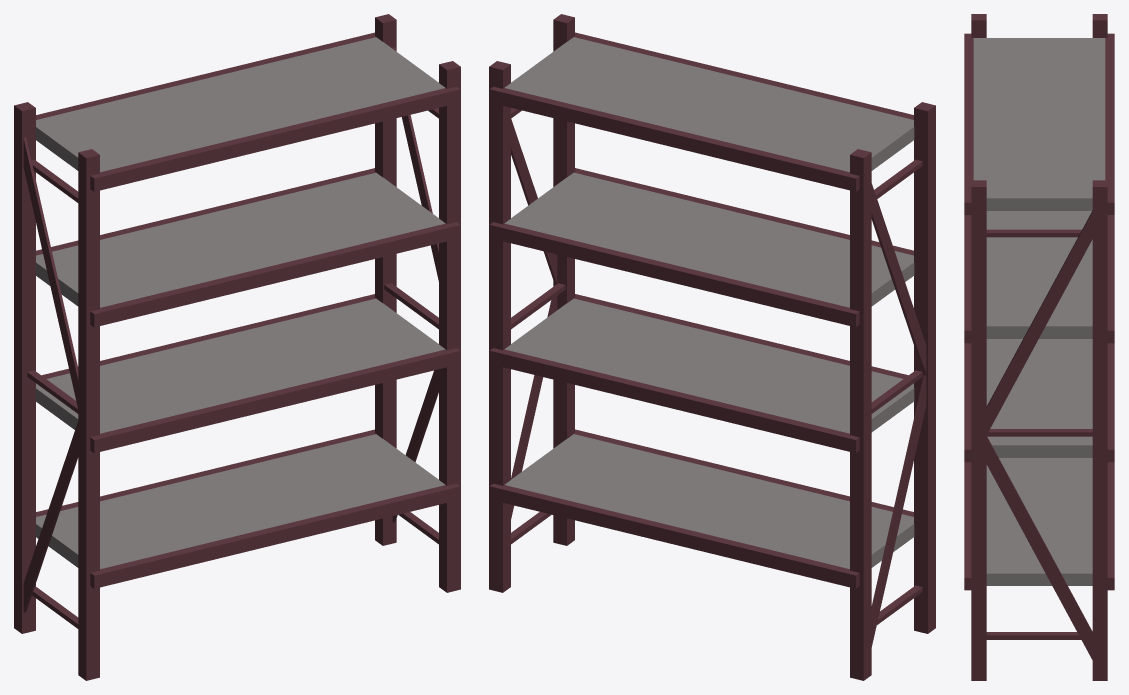
The model's file is storage-medium-a.fbx.
The picture shows the model from 3 angles, left to right: view 1: azimuth 30°, elevation 25°; view 2: azimuth 150°, elevation 25°; view 3: azimuth 270°, elevation 25°; orthographic projection. The views are drawn at different scales.
Visible parts, largest first — view 1: storage-medium-a; view 2: storage-medium-a; view 3: storage-medium-a.
Boxes of the visible parts, left/top/right/bottom form: storage-medium-a: left=14, top=14, right=460, bottom=680; storage-medium-a: left=489, top=14, right=935, bottom=680; storage-medium-a: left=964, top=14, right=1114, bottom=680.
Bounding box in the file's own units: 1.5 × 2 × 0.552.
